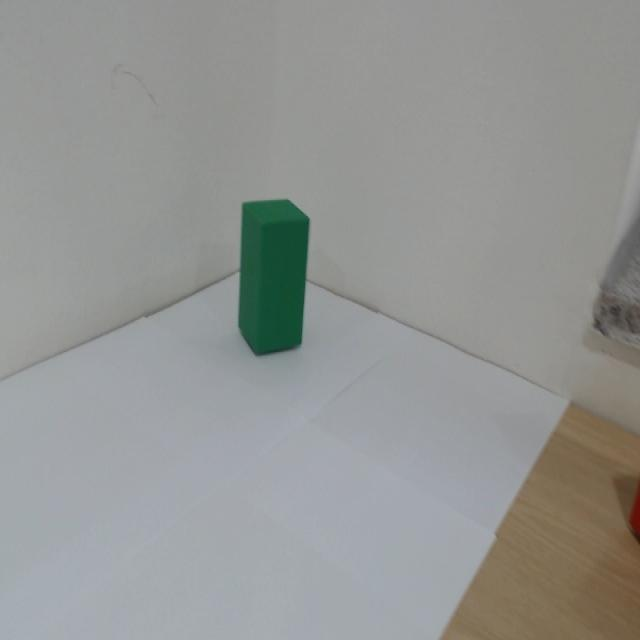cube: (201, 116, 337, 452)
